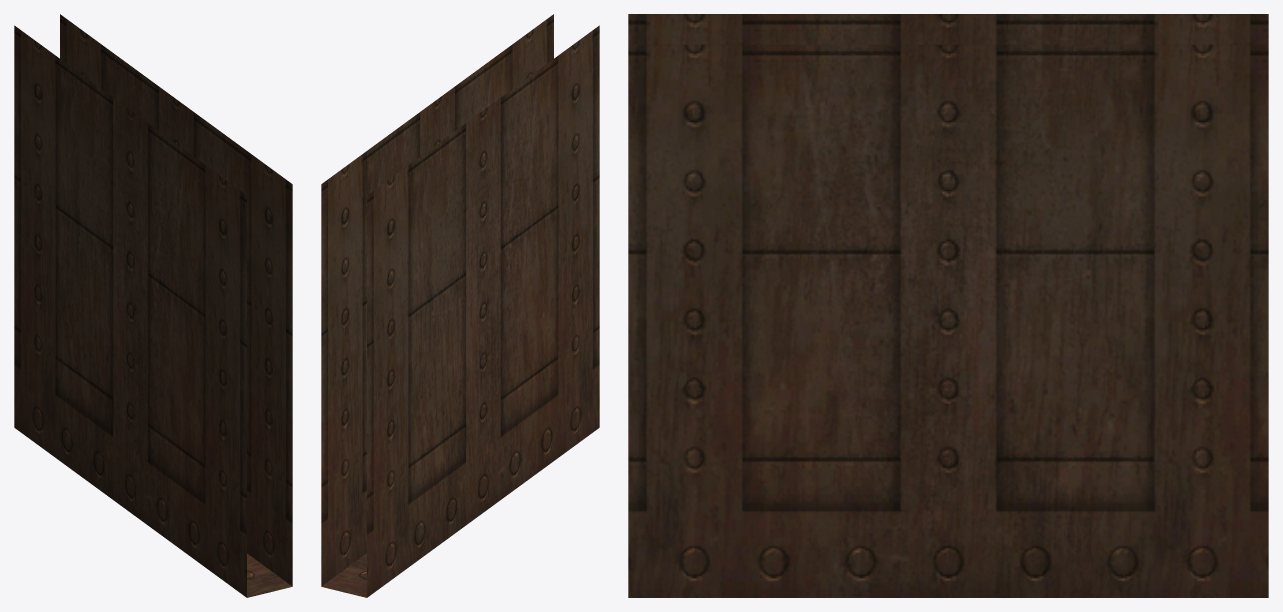
File: door_jabba_insidedoor.fbx
3 views of the same model, side by side, from view 1: azimuth 30°, elevation 25°; view 2: azimuth 150°, elevation 25°; view 3: azimuth 270°, elevation 25° (orthographic). The views are drawn at different scales.
Parts seen in each view (by area): view 1: mesh_node; view 2: mesh_node; view 3: mesh_node.
Part boxes in pixels (box(x1,y1,x2,y2)): mesh_node: box(14, 14, 292, 597); mesh_node: box(321, 14, 599, 597); mesh_node: box(628, 14, 1268, 597).
Size of the model in its own units: 0.5 by 4.2 by 4.4.
1 material, 1 textured.
